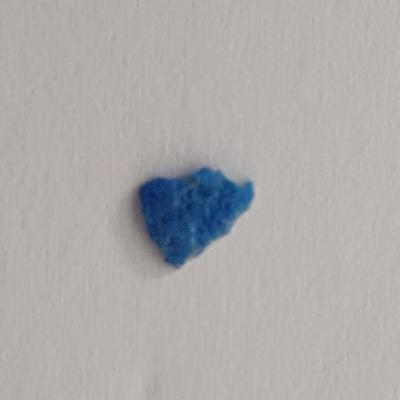plastic: (135, 164, 259, 279)
